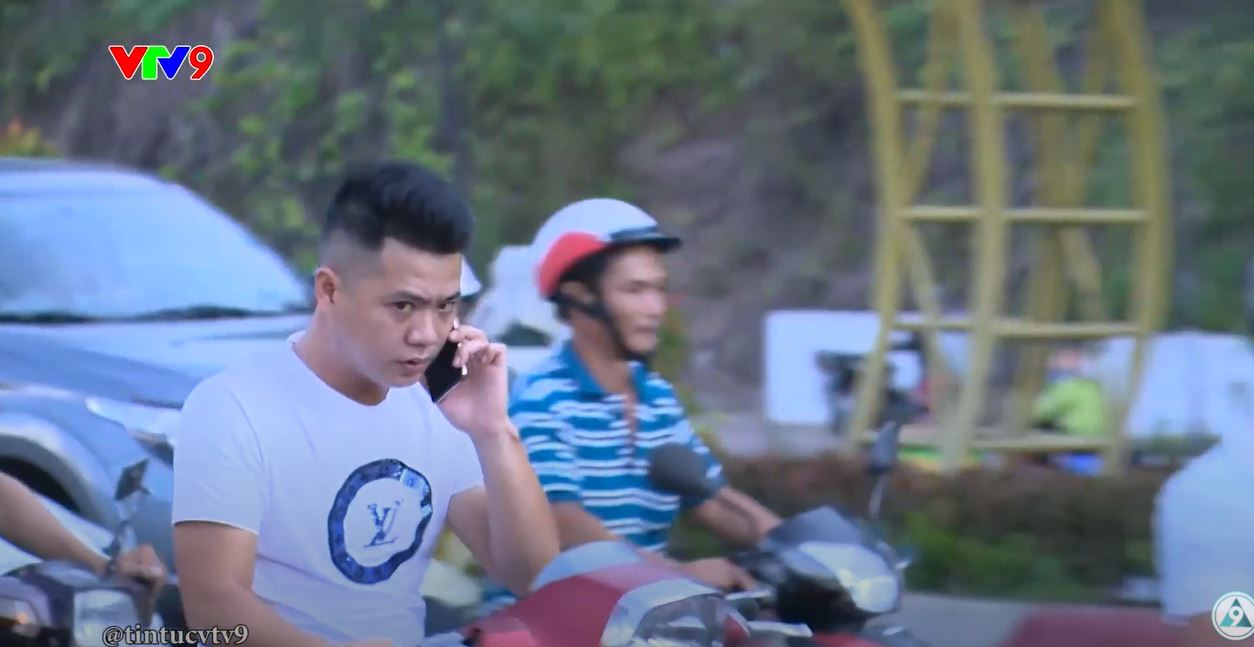su dung dien thoai: (311, 166, 512, 438)
